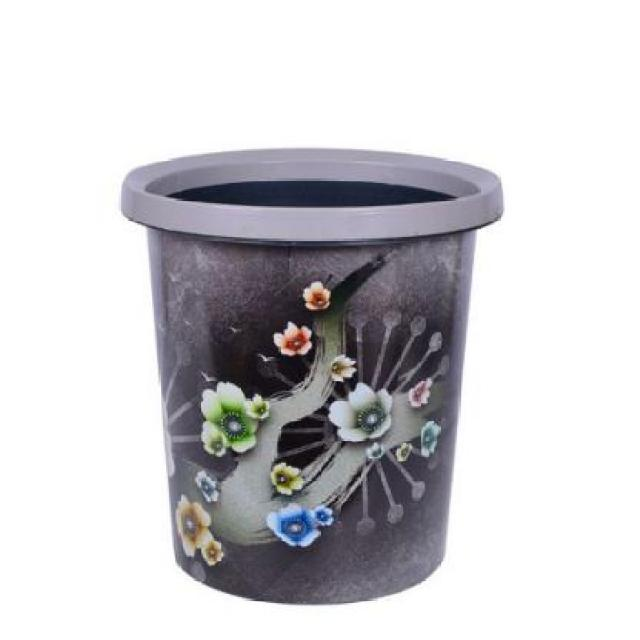dustbin: (115, 143, 508, 610)
